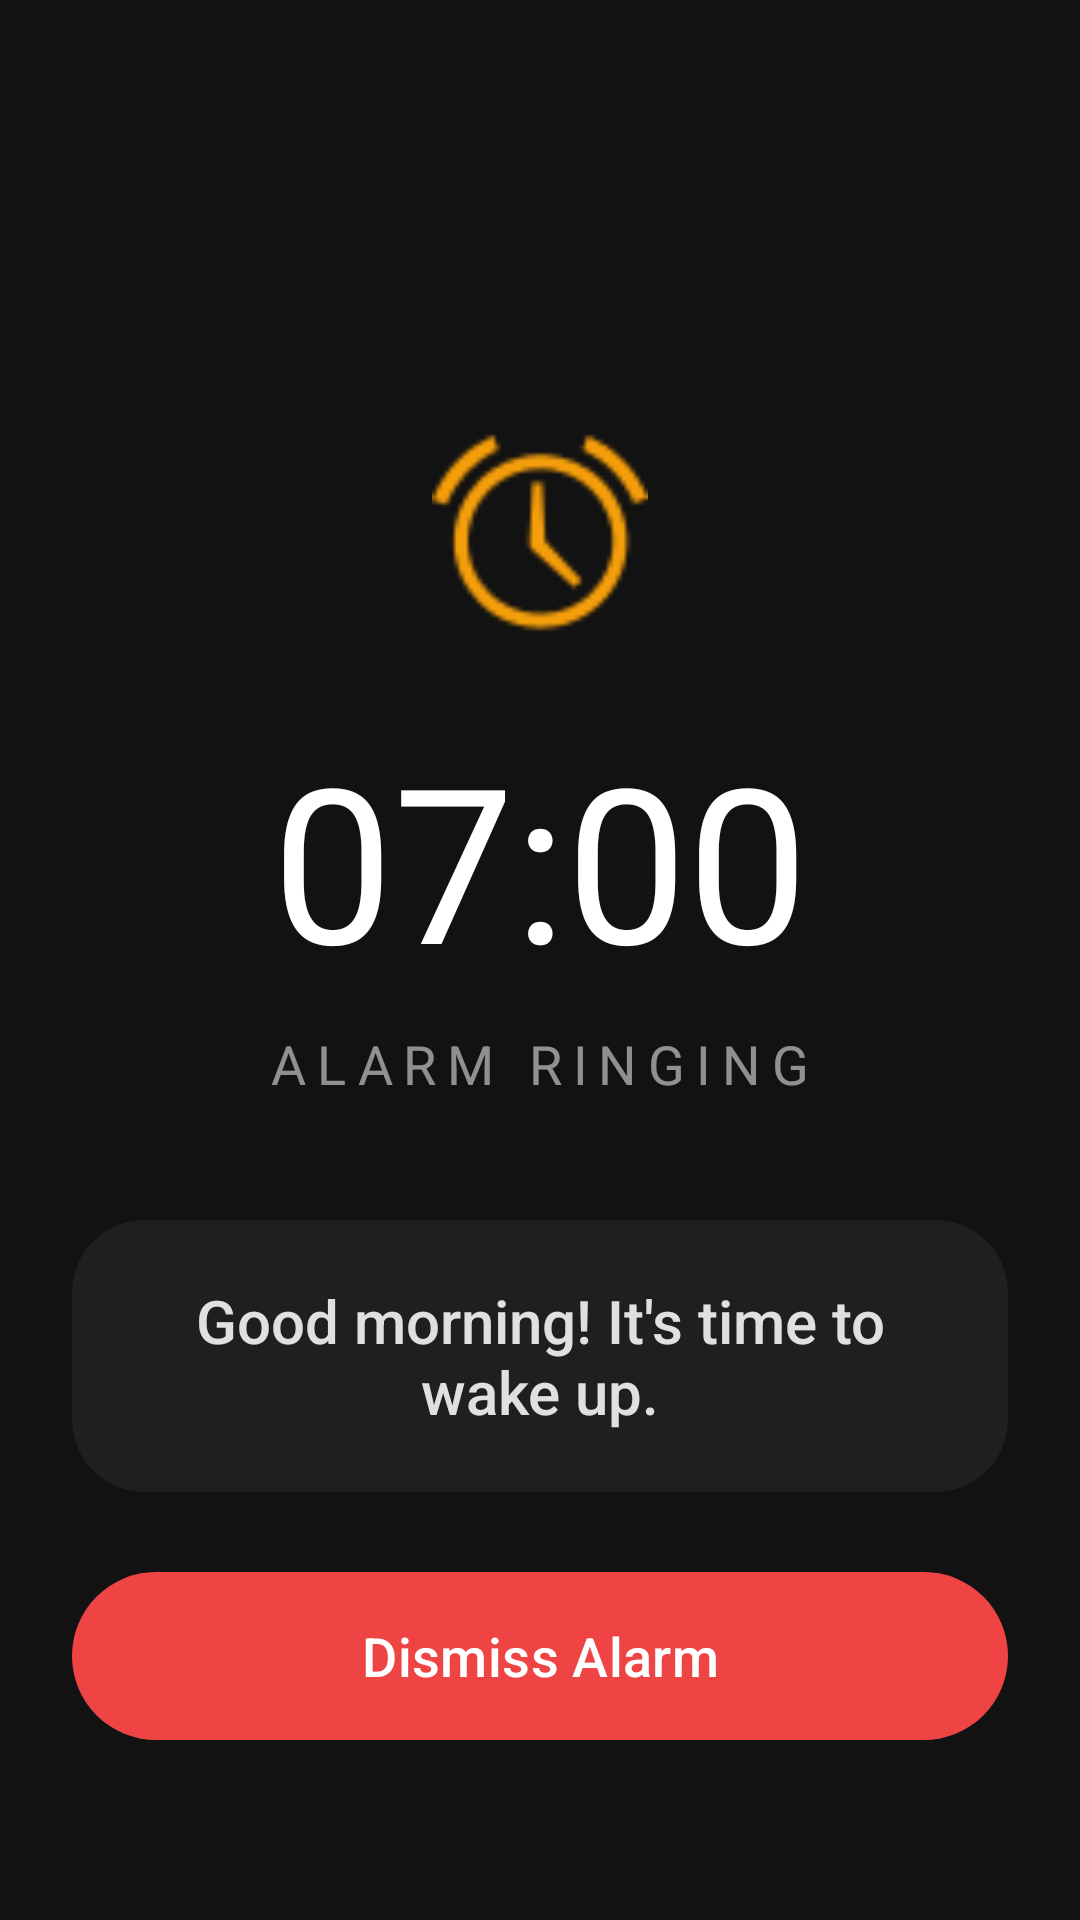

Point at icon controls on the screen. Image size 1080*1920, points as point (x, y).
lock idle alarm: point (540, 532)
